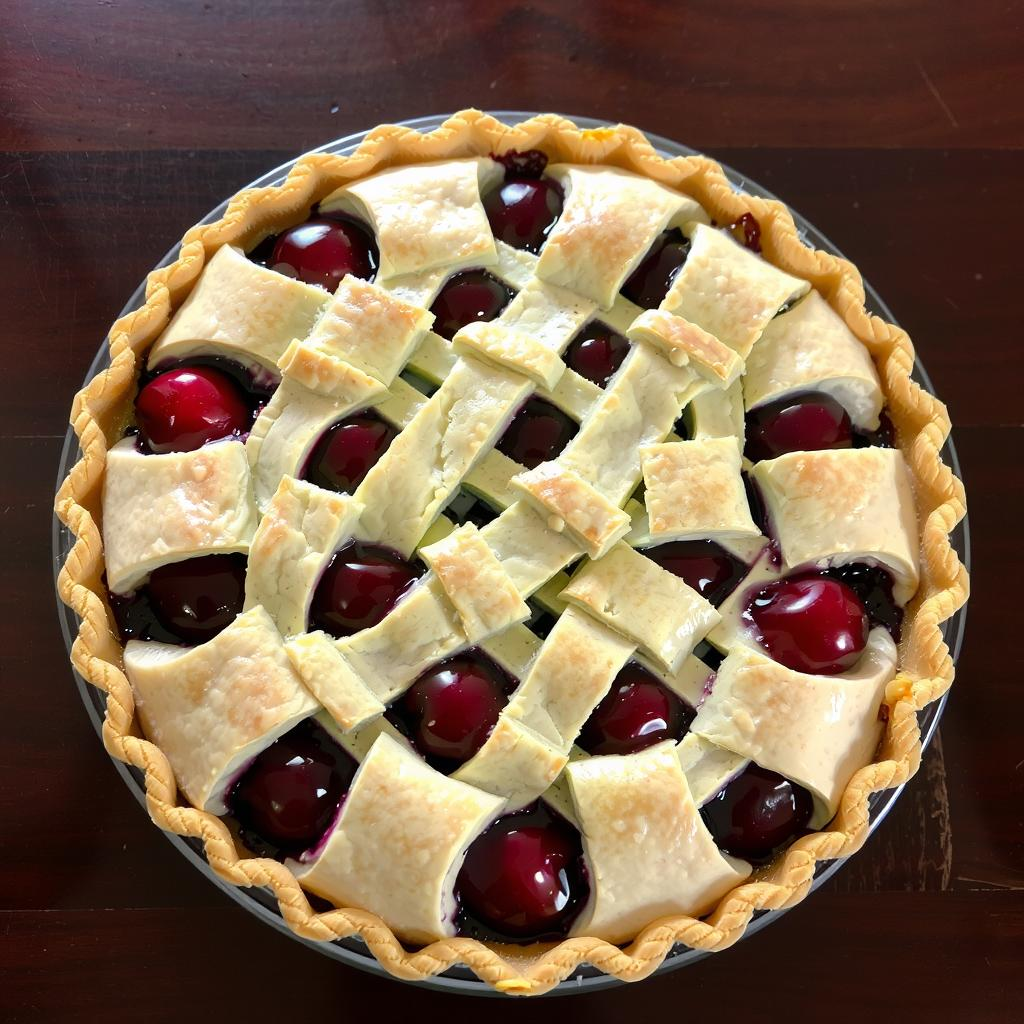pie: (47, 104, 986, 1004)
